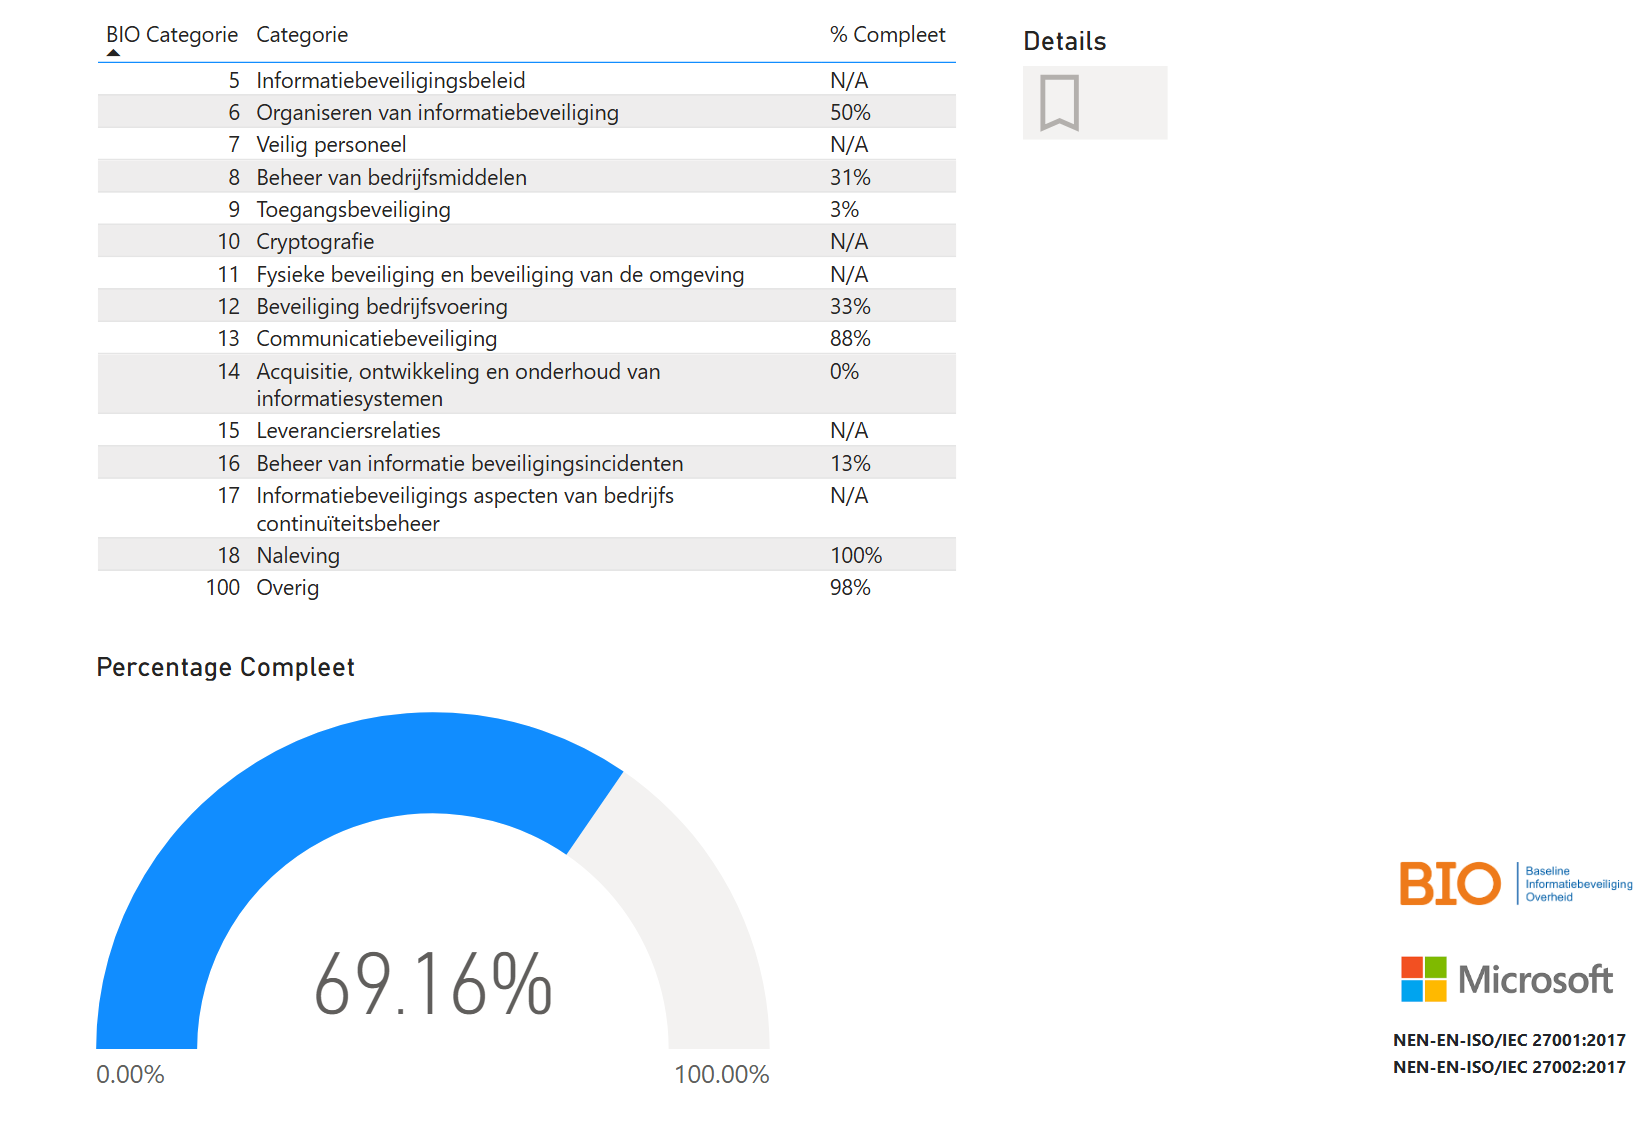

What the dashboard file says about the page in this screenshot:
{"tool":"powerbi","page":{"name":"Welkom","canvas":[1280,720],"ordinal":0},"visuals":[{"type":"tableEx","fields":{"Values":["AllBIOControlDetails.Category","AllBIOControlDetails.Category Title","Results_BioControls_distinct.perc_complete_Display"]},"box":[313.7,26.4,566.7,395.9],"z":0},{"type":"actionButton","title":"Details","box":[891.9,35.5,89.6,71.5],"z":1000},{"type":"gauge","title":"Percentage Compleet","fields":{"Y":["Results_BioControls_distinct.perc_complete"]},"box":[313.9,422.7,426.7,297.3],"z":2000},{"type":"image","box":[1114.5,541.2,165.5,52.9],"z":3000},{"type":"image","box":[1120.6,588.1,159.5,68.4],"z":4000},{"type":"textbox","box":[1115.9,648.2,164.2,71.5],"z":5000}]}

Visuals, with their boxes on the page's 1280x720 design canvas (x1, y1, x2, y2). These are canvas units, not pixel positions in the 1648x1128 screenshot, which may show the page scaled, cropped or inside an application window:
tableEx - AllBIOControlDetails.Category x AllBIOControlDetails.Category Title: [left=314, top=26, right=880, bottom=422]
"Details" actionButton: [left=892, top=36, right=982, bottom=107]
"Percentage Compleet" gauge: [left=314, top=423, right=741, bottom=720]
image: [left=1114, top=541, right=1280, bottom=594]
image: [left=1121, top=588, right=1280, bottom=656]
textbox: [left=1116, top=648, right=1280, bottom=720]
